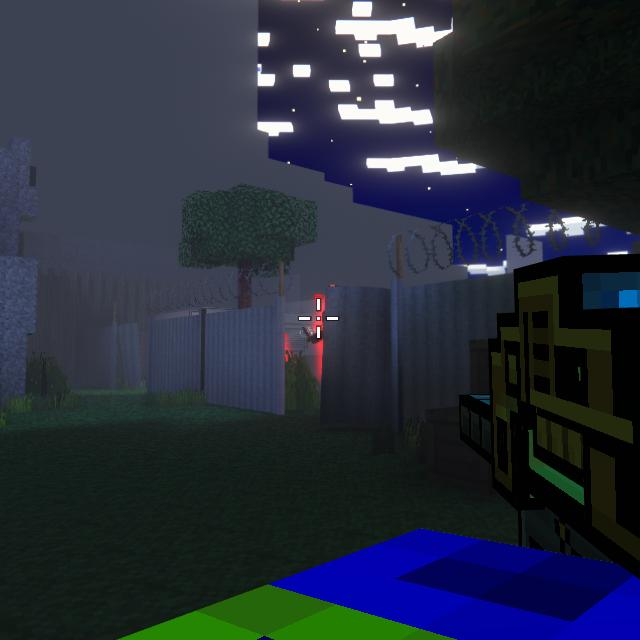Enemy: (309, 310, 324, 367)
